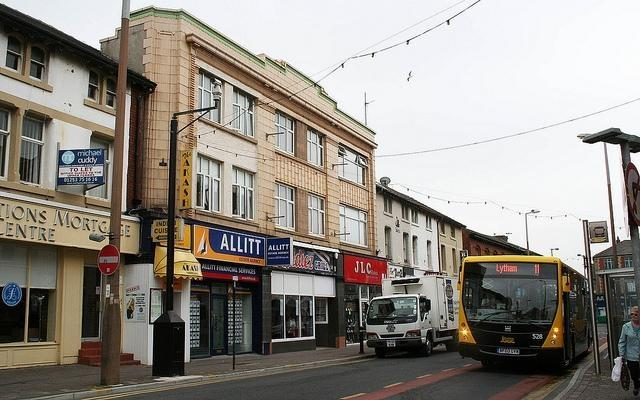bus: (454, 256, 596, 370)
truck: (364, 275, 460, 357)
